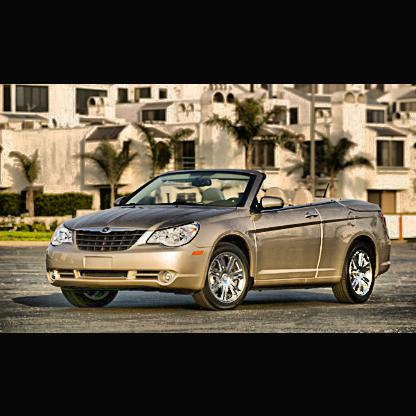Chrysler Sebring Convertible 2010: (46, 168, 394, 308)
